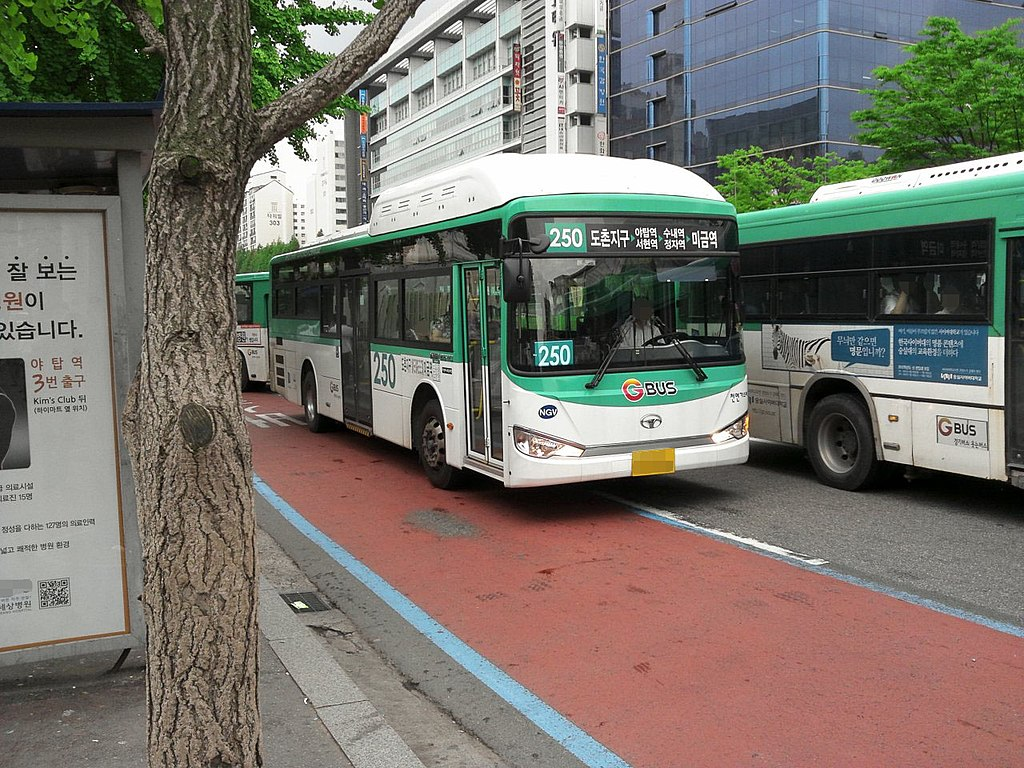bnum: (544, 222, 586, 250)
